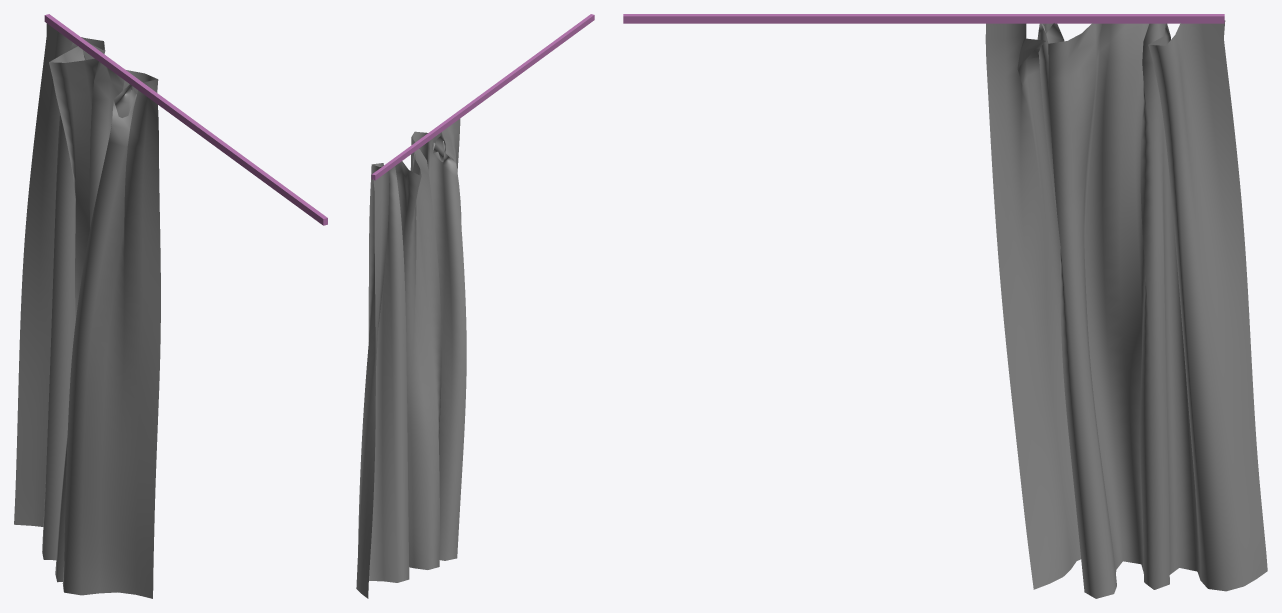
File: cortina.FBX
The picture shows the model from 3 angles, left to right: view 1: azimuth 30°, elevation 25°; view 2: azimuth 150°, elevation 25°; view 3: azimuth 270°, elevation 25°; orthographic projection. The views are drawn at different scales.
Parts seen in each view (by area): view 1: Plane001, Box001; view 2: Plane001, Box001; view 3: Plane001, Box001.
Part boxes in pixels (x1,y1,x2,y2): Plane001: [14, 23, 160, 598]; Box001: [44, 14, 327, 225]; Plane001: [356, 119, 466, 598]; Box001: [371, 14, 594, 180]; Plane001: [985, 20, 1267, 598]; Box001: [623, 14, 1224, 23].
Bounding box in the file's own units: 17.6 × 104 × 107.
